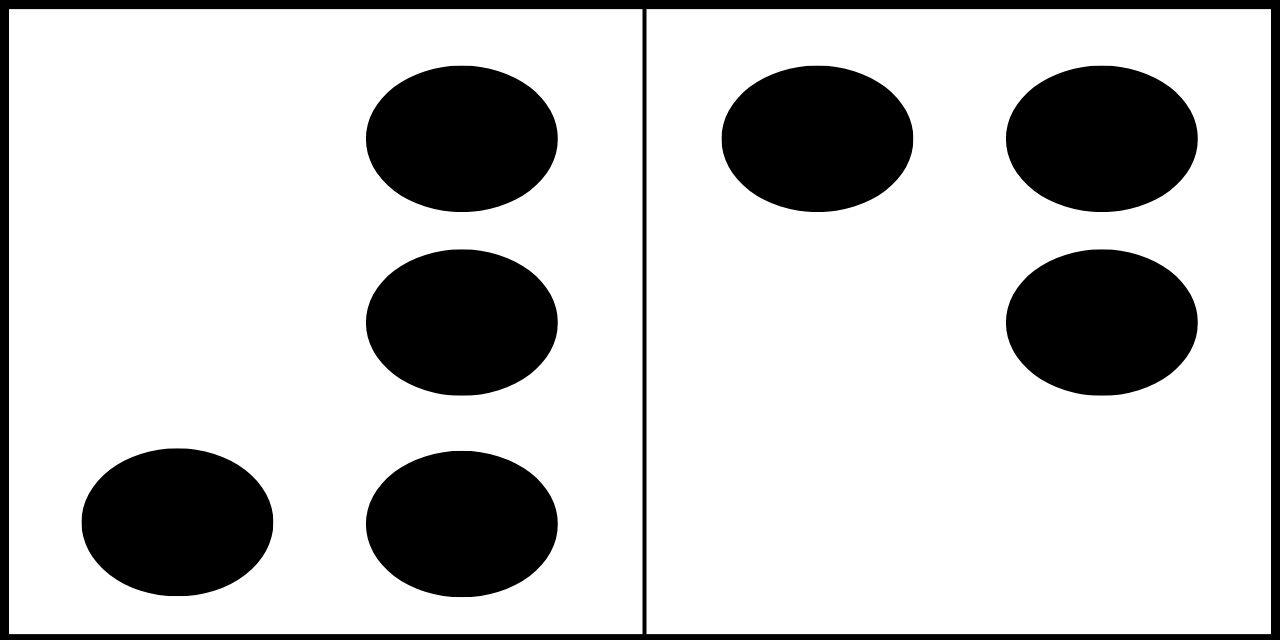digit_4: (723, 65, 1198, 595)
number_sign: (83, 66, 557, 596)
